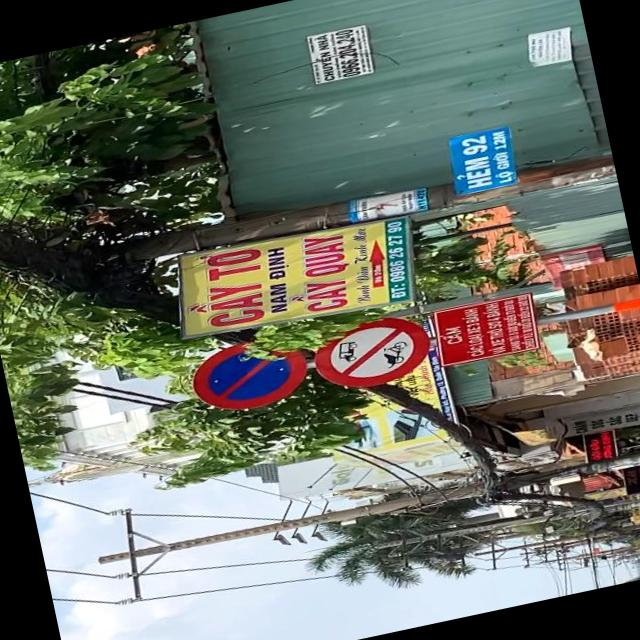P-131a: (184, 328, 312, 418)
